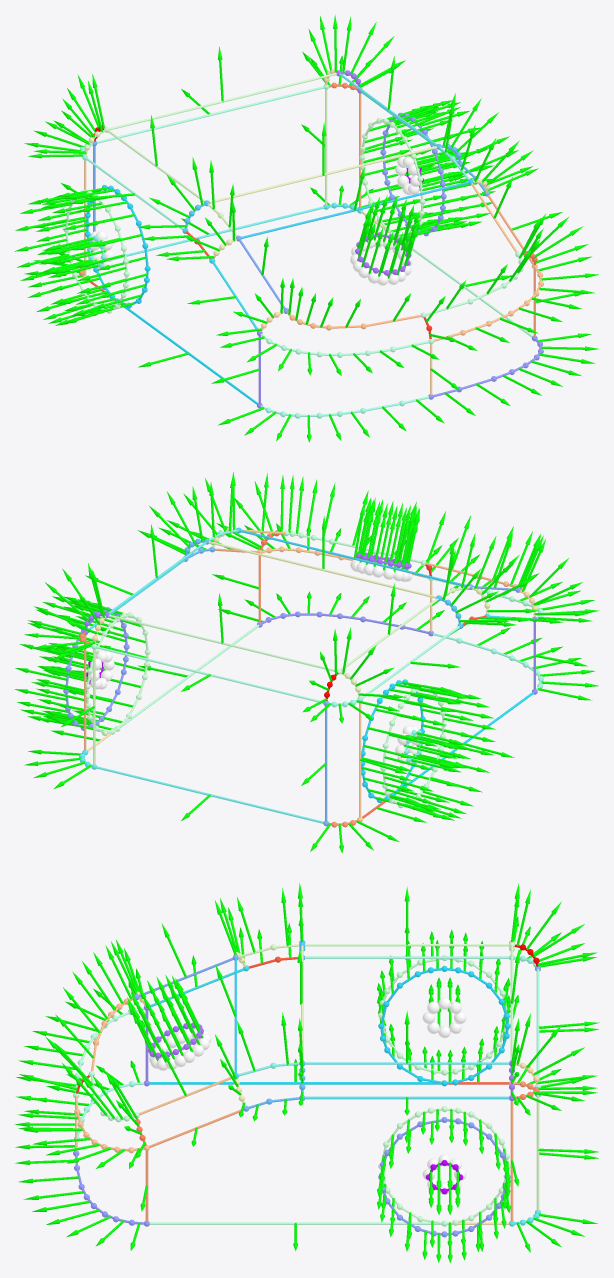
Rendered from onshape_vacuum.gltf.
3 views of the same model, one above another, from view 1: azimuth 30°, elevation 25°; view 2: azimuth 150°, elevation 25°; view 3: azimuth 270°, elevation 25° (orthographic). The views are drawn at different scales.
Size of the model in its own units: 0.8155 by 0.375 by 0.9421.
